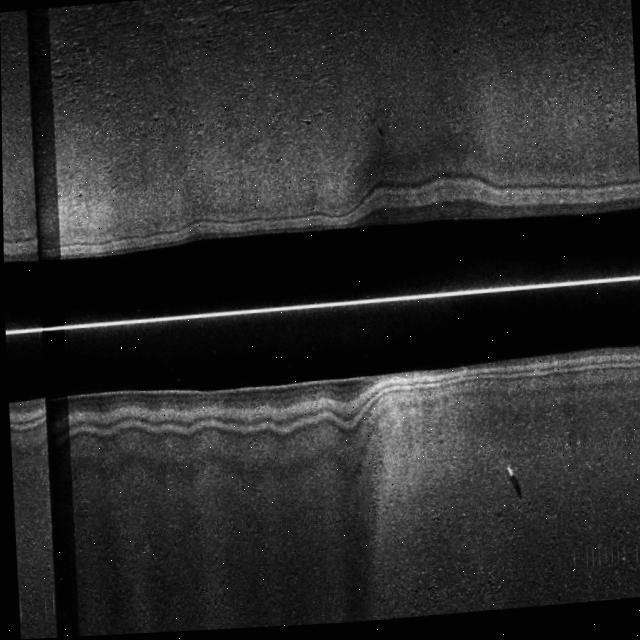mine: (497, 462, 528, 509)
